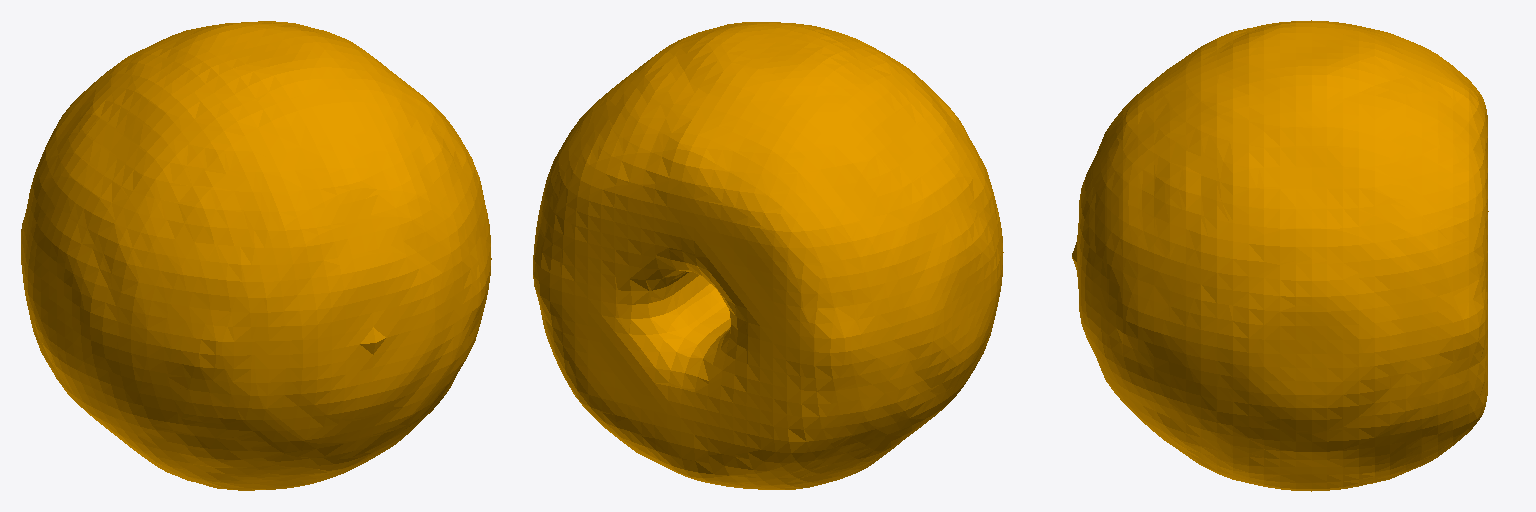
The robot description file, URDF, robot "C04_1":
<?xml version="1.0"?>
<robot name="C04_1">
  <link name="base_link">
    <visual>
      <geometry>
        <mesh filename="../../../../meshes/egad/train/C04_1.obj" />
      </geometry>
    </visual>
  </link>
</robot>

--- Render facts (derived) ---
Views: 3 orthographic renders of the robot side by side, from view 1: azimuth 30°, elevation 25°; view 2: azimuth 150°, elevation 25°; view 3: azimuth 270°, elevation 25°.
Model C04_1 with 1 links and 0 joints (none), rooted at base_link, posed all joints at 0.
Visible links, largest first — view 1: base_link; view 2: base_link; view 3: base_link.
Link boxes in pixels (x1,y1,x2,y2): base_link: (21,21,491,490); base_link: (533,22,1003,489); base_link: (1072,20,1488,491).
Size in the robot's own frame: 0.0665 by 0.0599 by 0.0665 metres.
1 mesh visuals loaded from 1 distinct referenced files (1 OBJ).